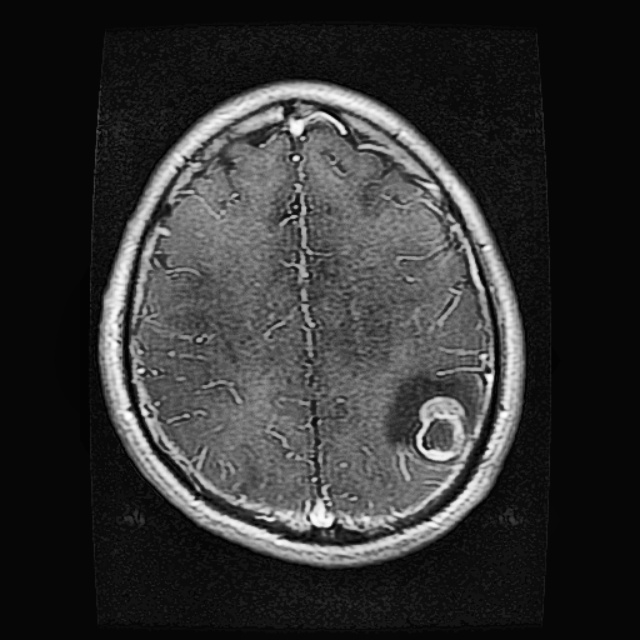Glioma: (380, 362, 483, 475)
